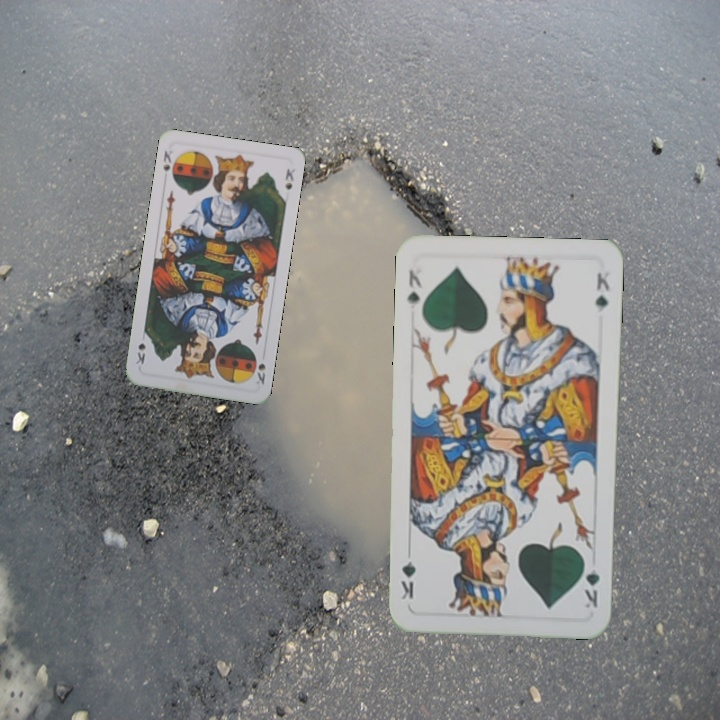GK: (580, 554, 603, 611), (403, 264, 425, 307)
SK: (249, 350, 268, 388), (159, 146, 179, 182)
